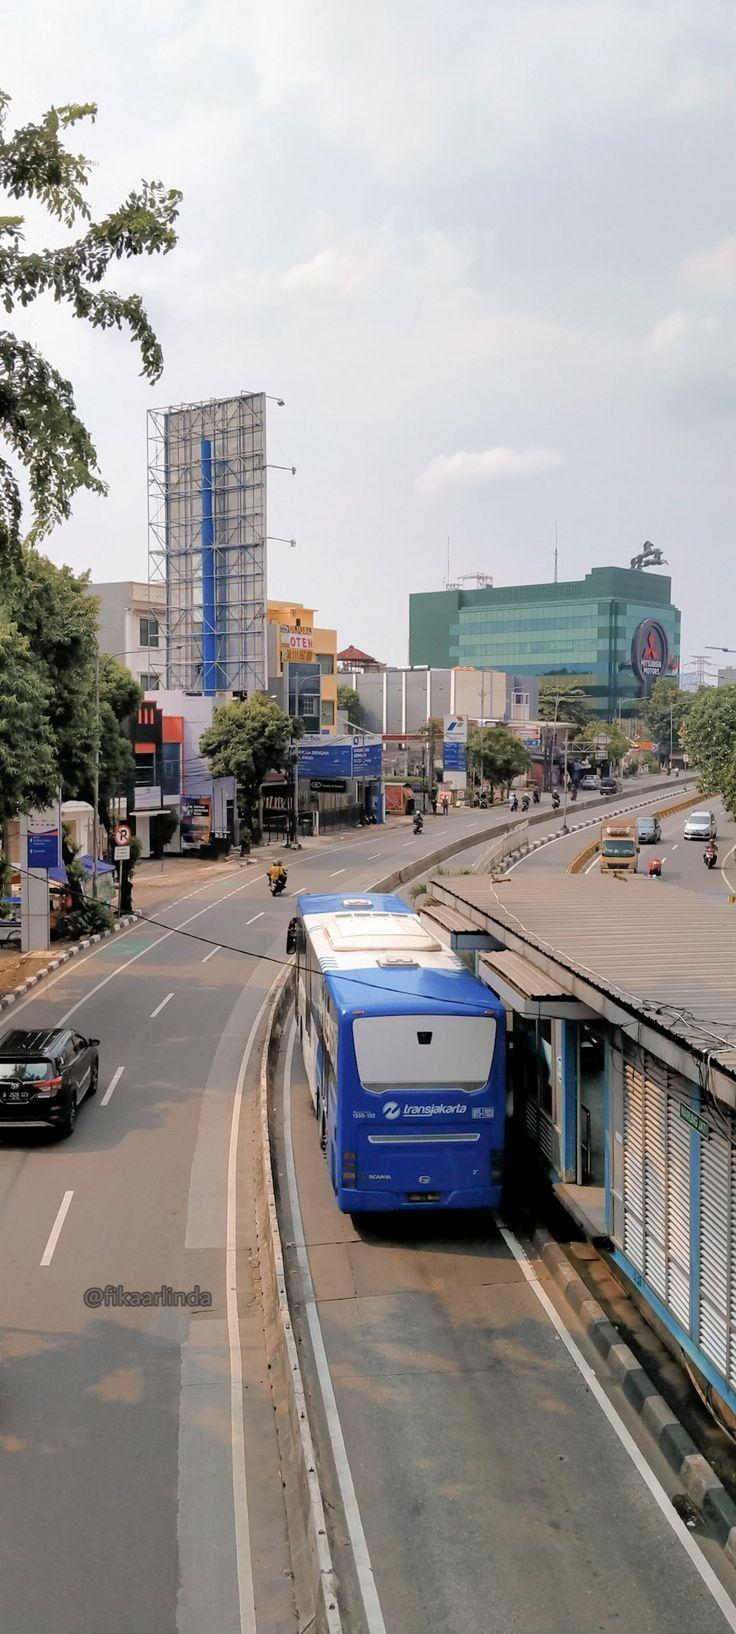mobil: (0, 1022, 93, 1142), (597, 823, 634, 875), (687, 810, 719, 842), (634, 813, 663, 844), (600, 775, 619, 797), (581, 771, 594, 793)
motor: (629, 539, 667, 570), (646, 846, 667, 878), (409, 811, 427, 838), (700, 845, 715, 871), (270, 873, 287, 895), (521, 795, 529, 815), (550, 794, 559, 804), (514, 796, 518, 814), (535, 787, 539, 803)
transjakarta: (285, 889, 511, 1218)
